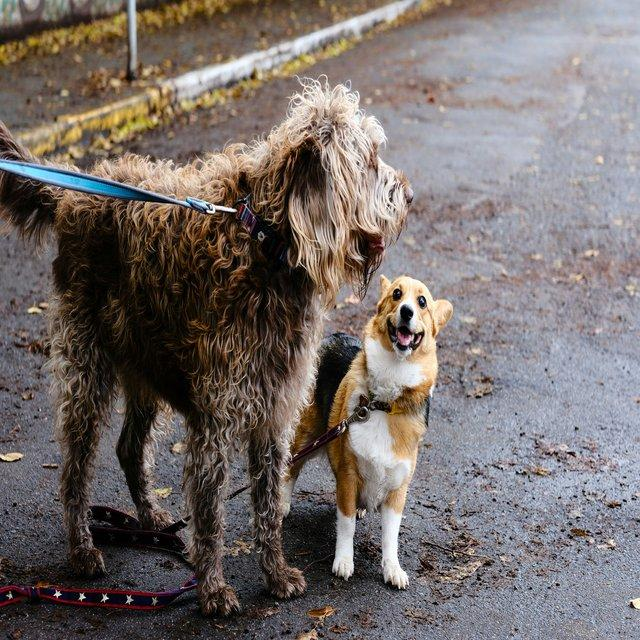corgi: (267, 272, 453, 590)
